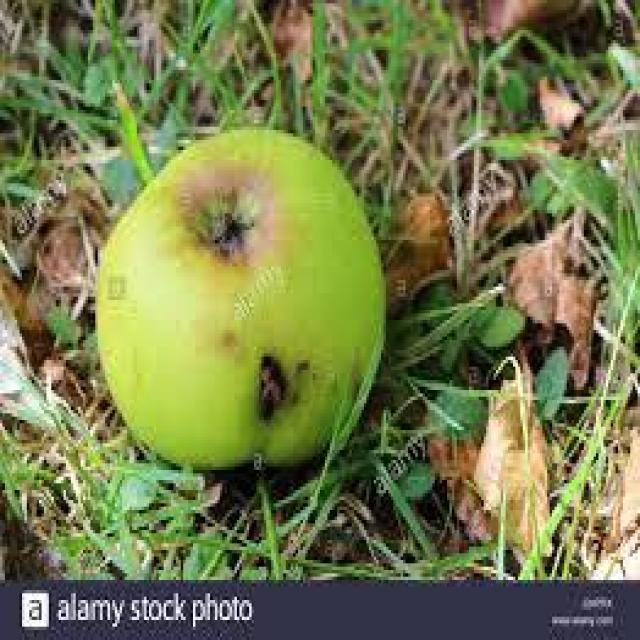Rotten: (90, 119, 393, 474)
